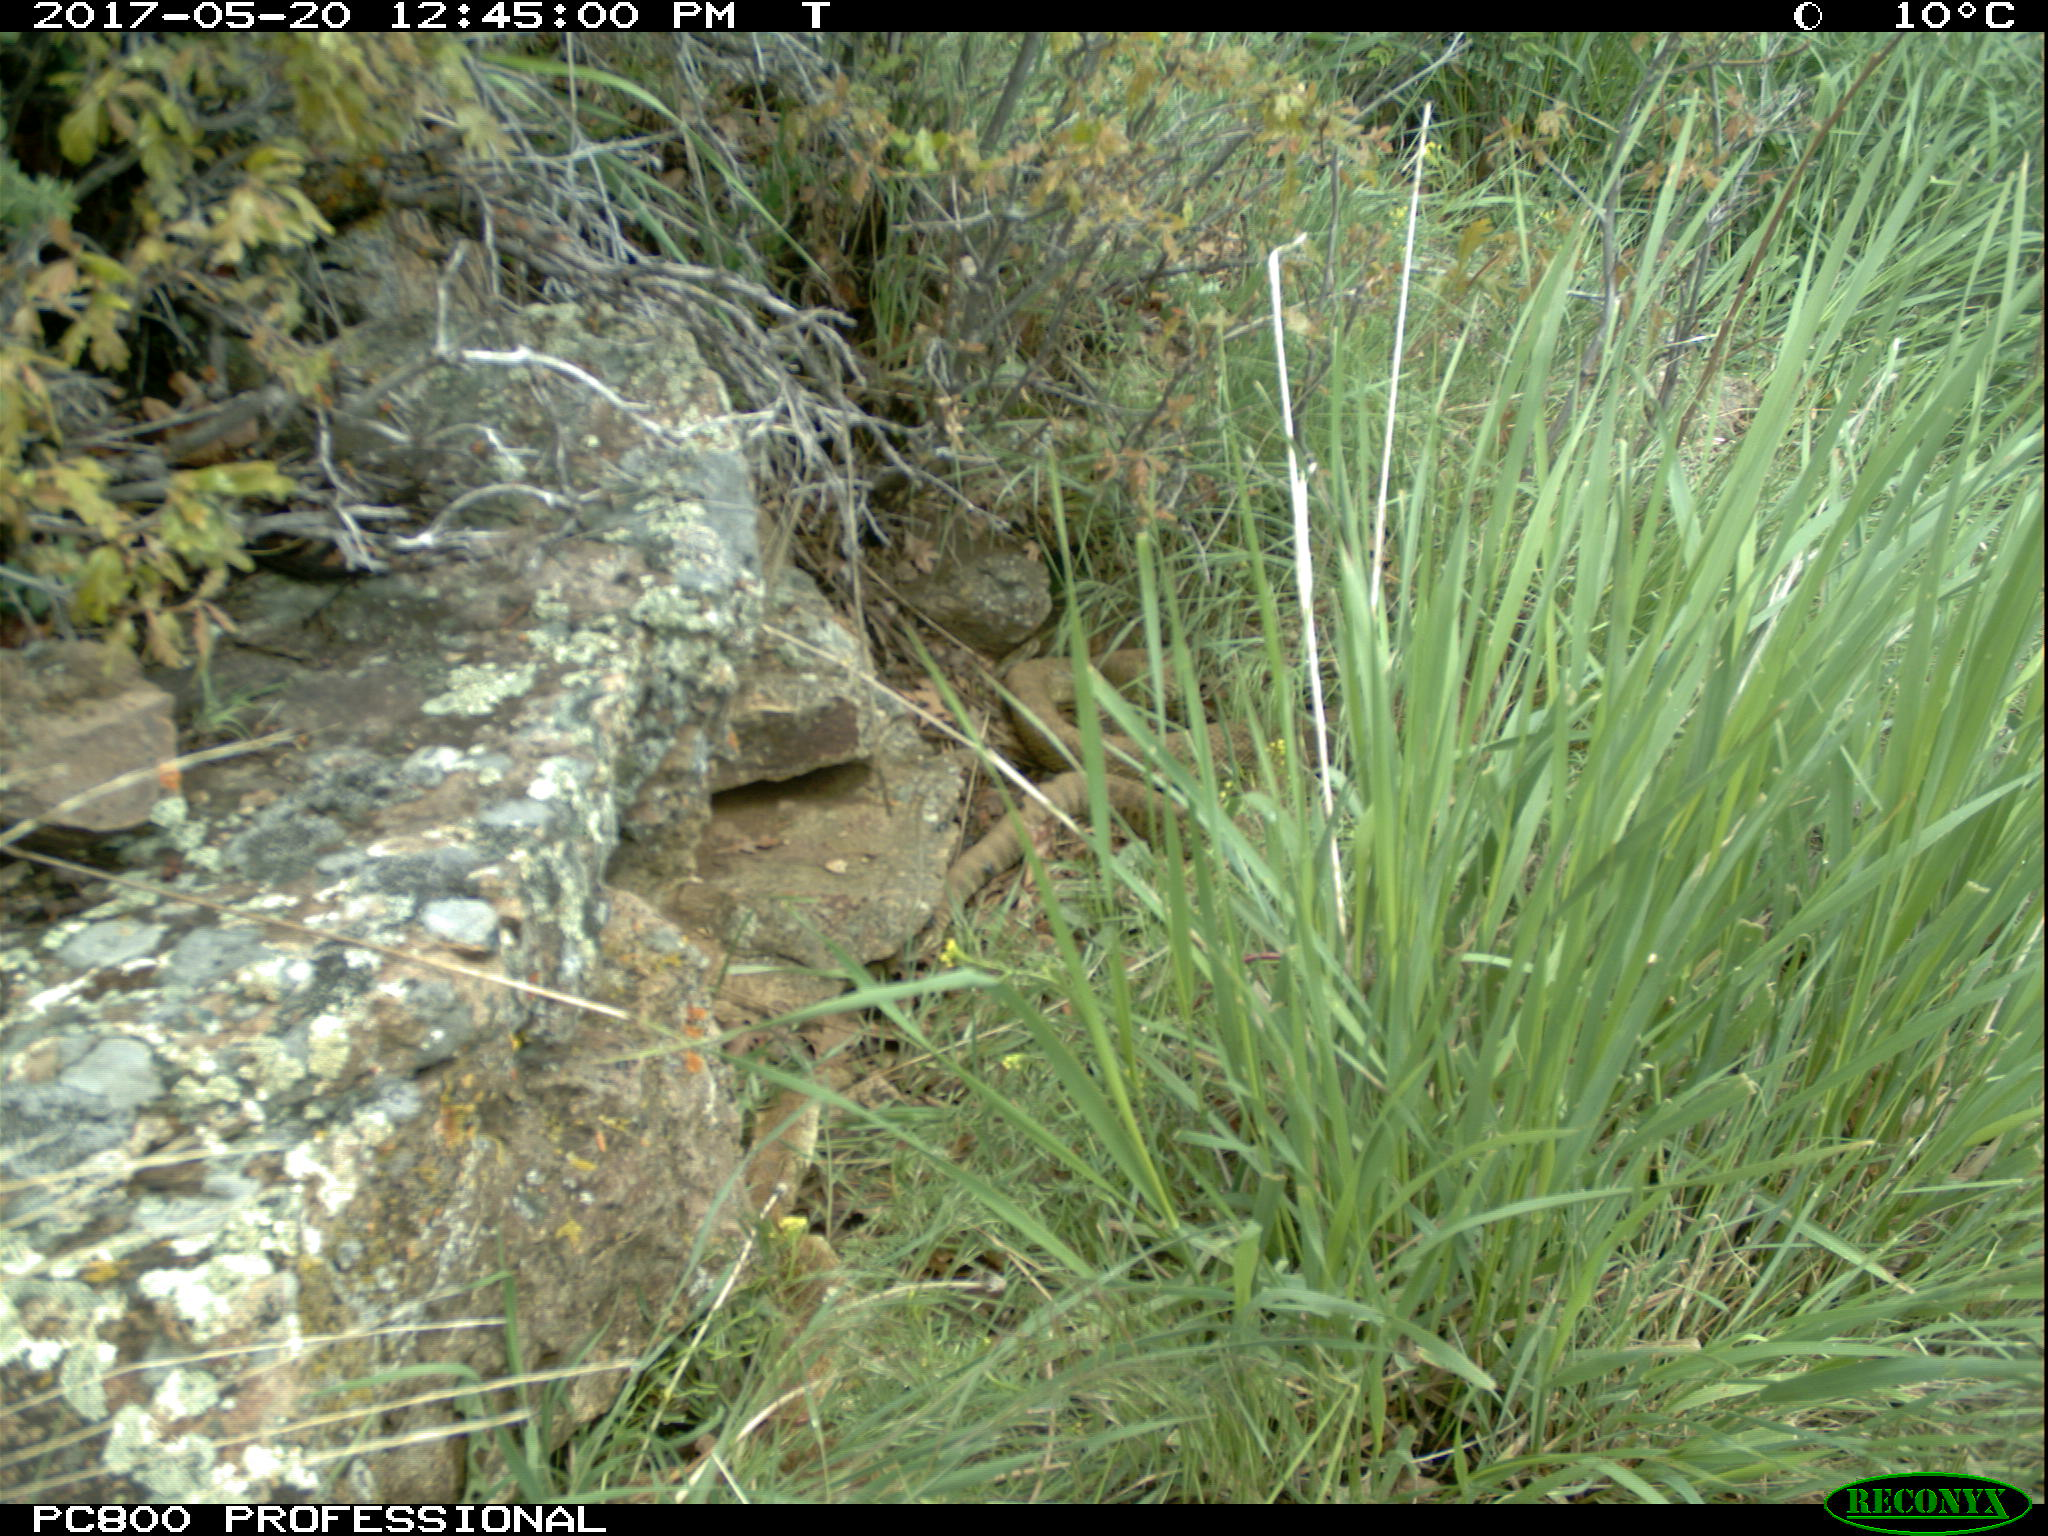snake: (927, 763, 1197, 921), (747, 1055, 843, 1475), (997, 652, 1322, 773)
